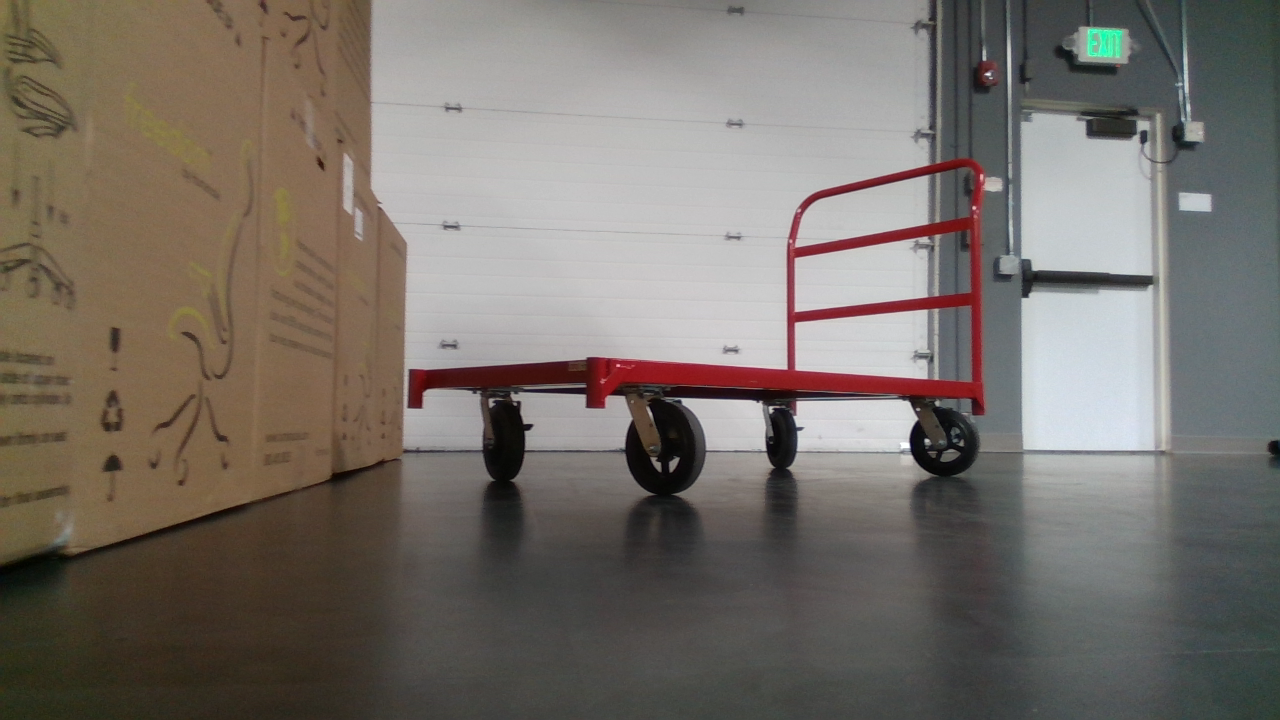Dolly: (406, 156, 987, 497)
Wheel: (623, 393, 708, 496), (908, 401, 982, 477), (478, 388, 532, 482), (760, 397, 803, 470)
